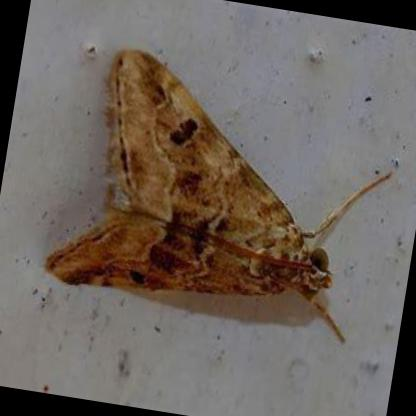Hellula undalis: (28, 36, 406, 356)
